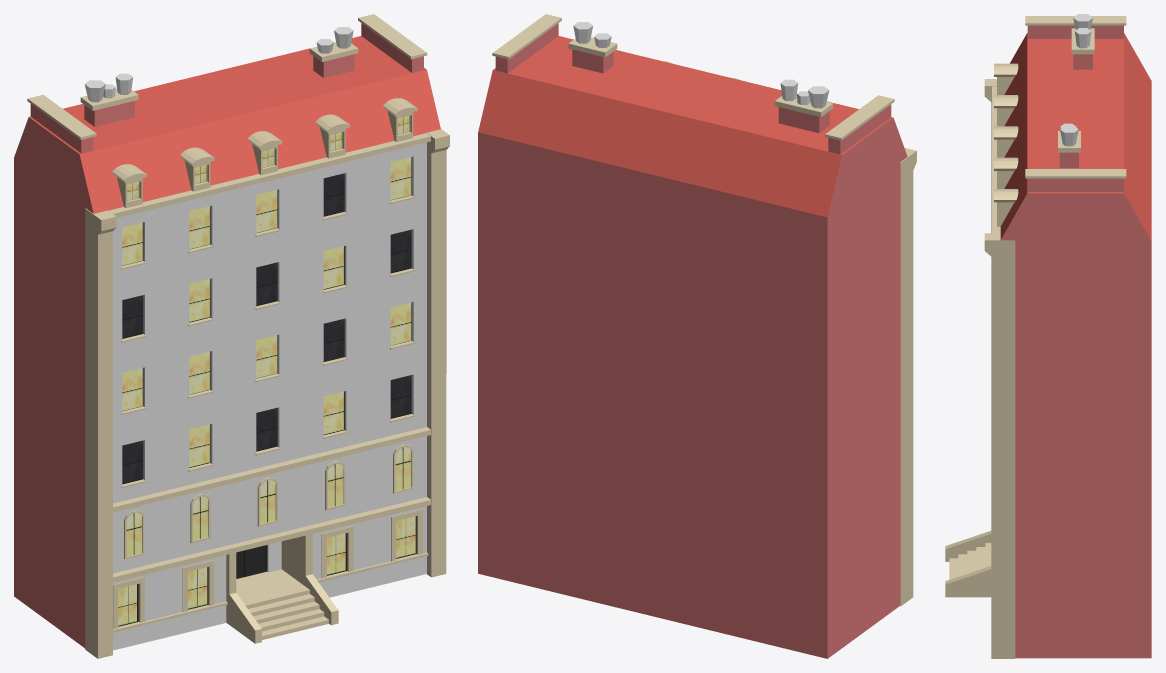
File: Bloc_Place_05.fbx
The picture shows the model from 3 angles, left to right: view 1: azimuth 30°, elevation 25°; view 2: azimuth 150°, elevation 25°; view 3: azimuth 270°, elevation 25°; orthographic projection. The views are drawn at different scales.
Visible parts, largest first — view 1: Bloc_Place_05; view 2: Bloc_Place_05; view 3: Bloc_Place_05.
Part boxes in pixels (x1,y1,x2,y2): Bloc_Place_05: [14, 14, 449, 658]; Bloc_Place_05: [478, 14, 916, 658]; Bloc_Place_05: [945, 14, 1151, 658].
Bounding box in the file's own units: 815 × 2180 × 1505.
